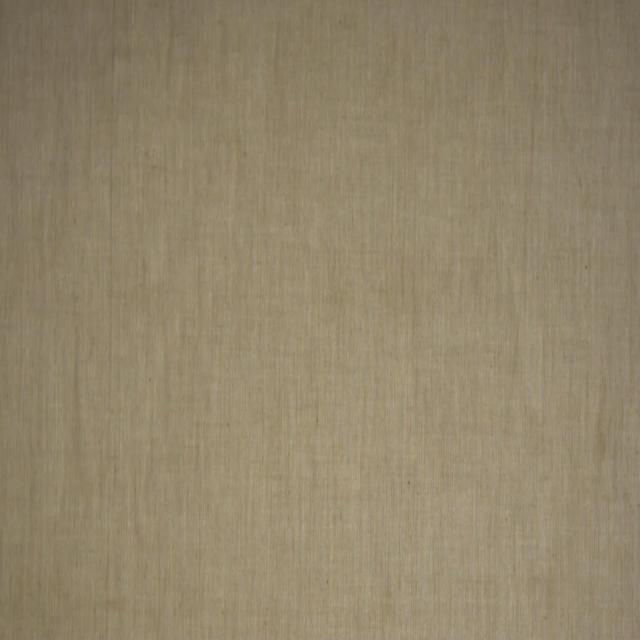dirty: (592, 422, 608, 471)
